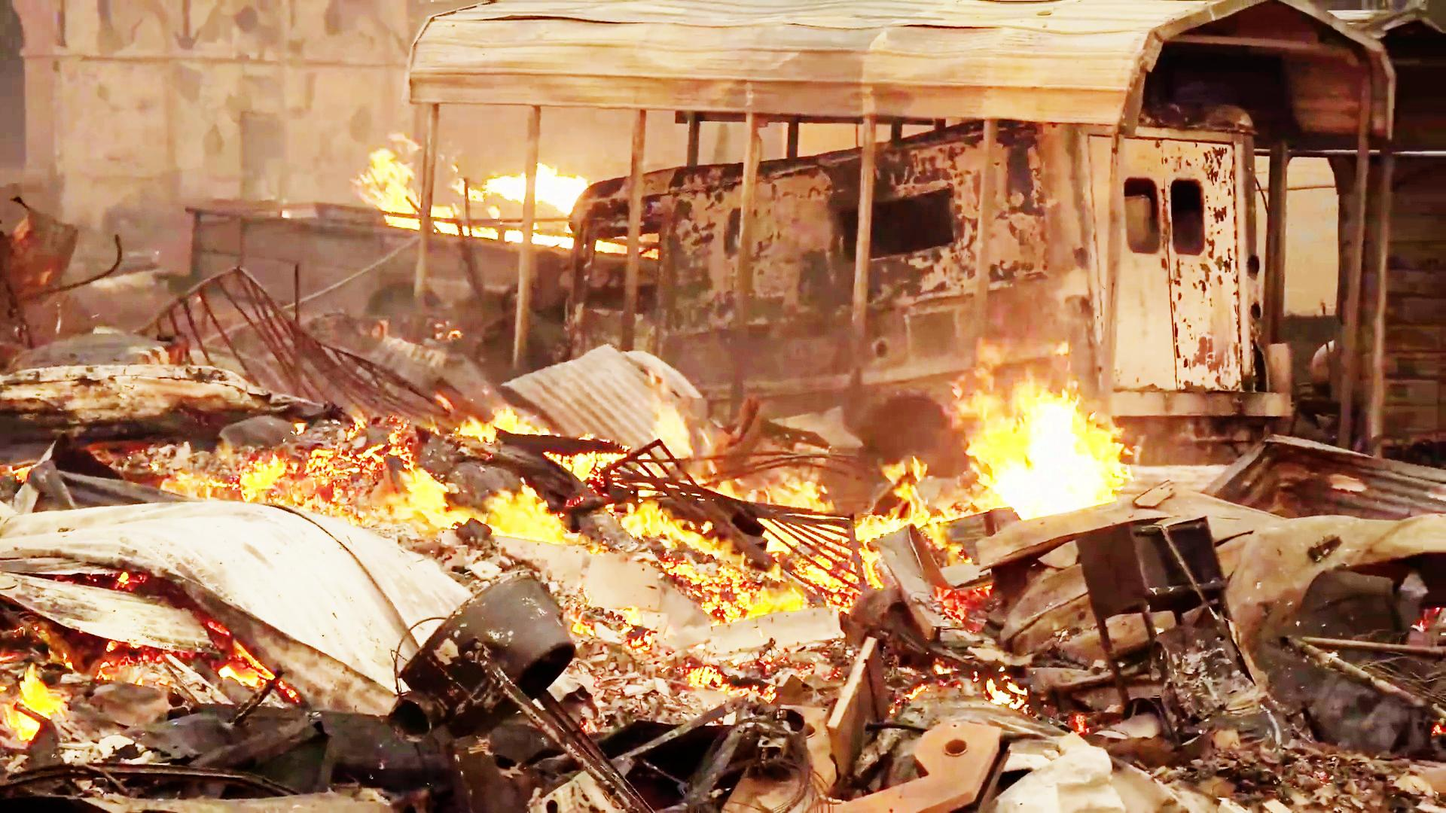fire: (934, 337, 1147, 547), (398, 403, 593, 547), (339, 125, 459, 234)
